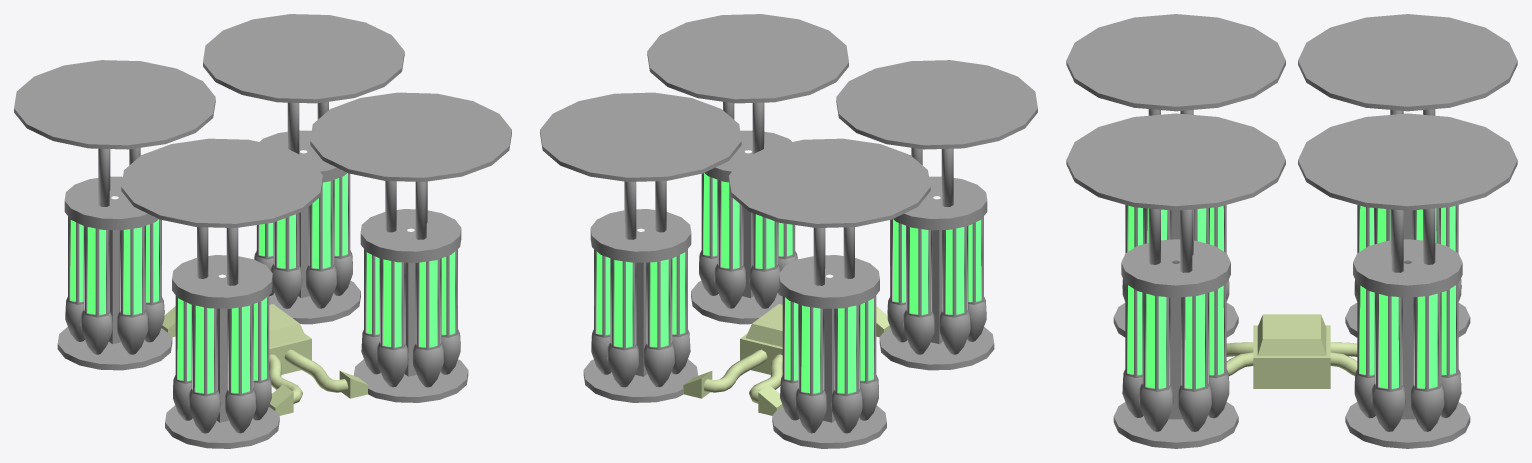
File: Power T2.fbx
The picture shows the model from 3 angles, left to right: view 1: azimuth 30°, elevation 25°; view 2: azimuth 150°, elevation 25°; view 3: azimuth 270°, elevation 25°; orthographic projection. The views are drawn at different scales.
Visible parts, largest first — view 1: Power T2.001; view 2: Power T2.001; view 3: Power T2.001.
Part boxes in pixels (x1=…): Power T2.001: x1=14, y1=14, x2=511, y2=448; Power T2.001: x1=540, y1=14, x2=1037, y2=448; Power T2.001: x1=1066, y1=14, x2=1517, y2=448.
Size of the model in its own units: 2124 by 1354 by 2107.
